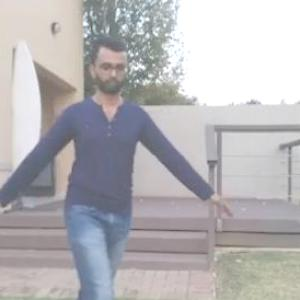land: (1, 45, 210, 299)
